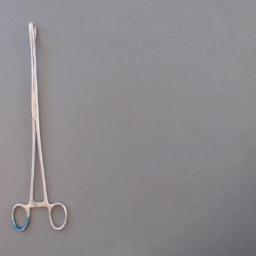Sponge Forceps: (6, 18, 72, 236)
